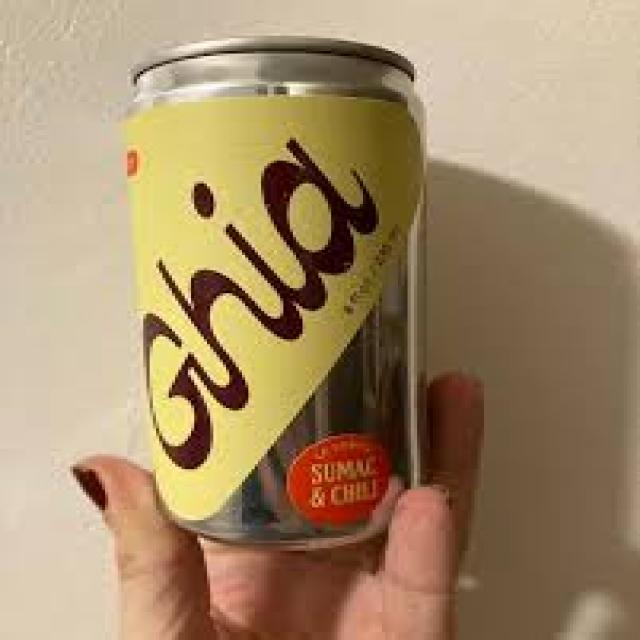Cans: (108, 28, 443, 553)
